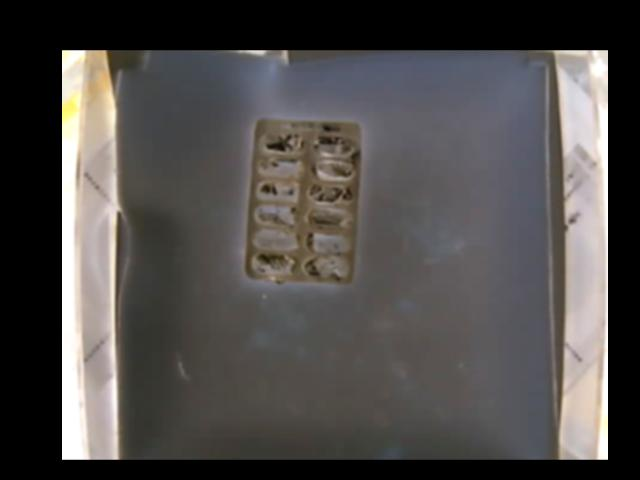Medicine: (247, 115, 360, 284)
